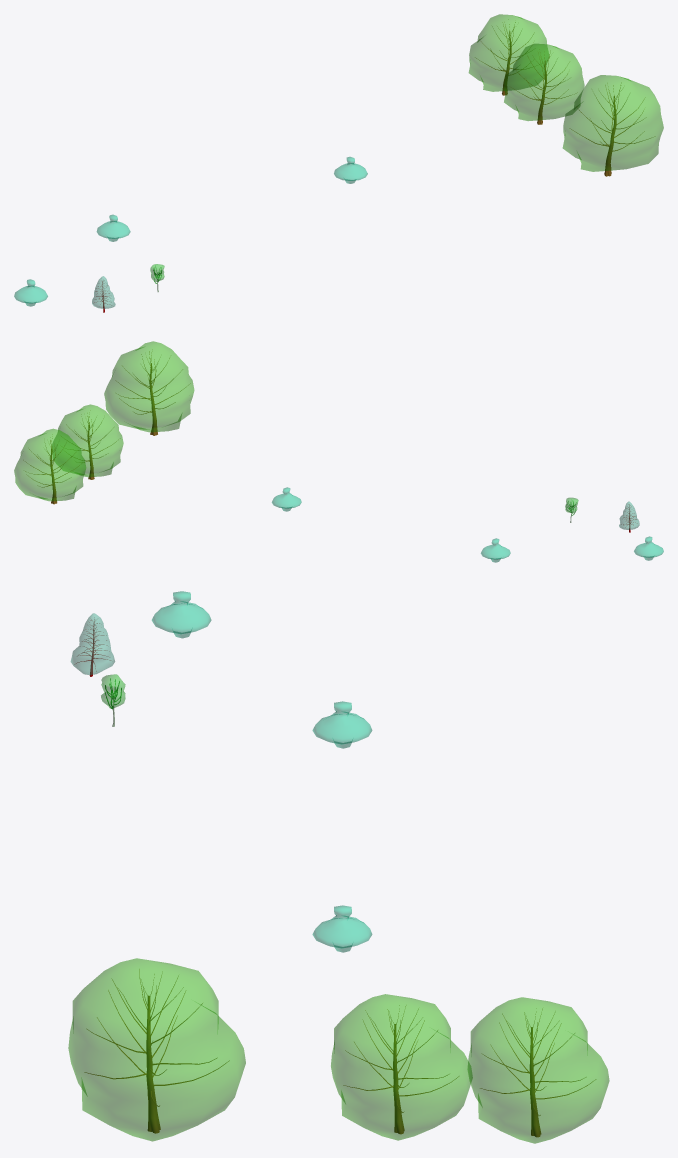
File: tree.glb
3 renders of one model, top to bottom at view 1: azimuth 30°, elevation 25°; view 2: azimuth 150°, elevation 25°; view 3: azimuth 270°, elevation 25°, orthographic. The views are drawn at different scales.
Parts seen in each view (by area): view 1: tree04, tree01, tree02; view 2: tree04, tree01, tree02; view 3: tree04, tree01, tree02.
Boxes of the visible parts, x1,y1,x2,y2 form: tree04: [468, 14, 663, 176]; tree01: [14, 157, 367, 306]; tree02: [92, 276, 115, 312]; tree04: [14, 341, 194, 504]; tree01: [272, 487, 663, 562]; tree02: [619, 501, 639, 532]; tree04: [68, 958, 609, 1143]; tree01: [152, 591, 372, 952]; tree02: [70, 613, 114, 676].
Bounding box in the file's own units: 60.58 × 8.77 × 25.42.
